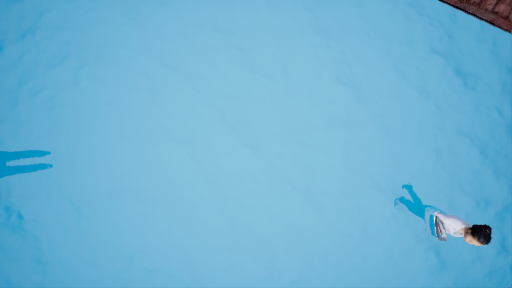person: (396, 184, 501, 261)
